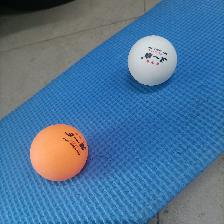WhiteBall: (127, 34, 177, 85)
YellowBall: (29, 124, 87, 180)
